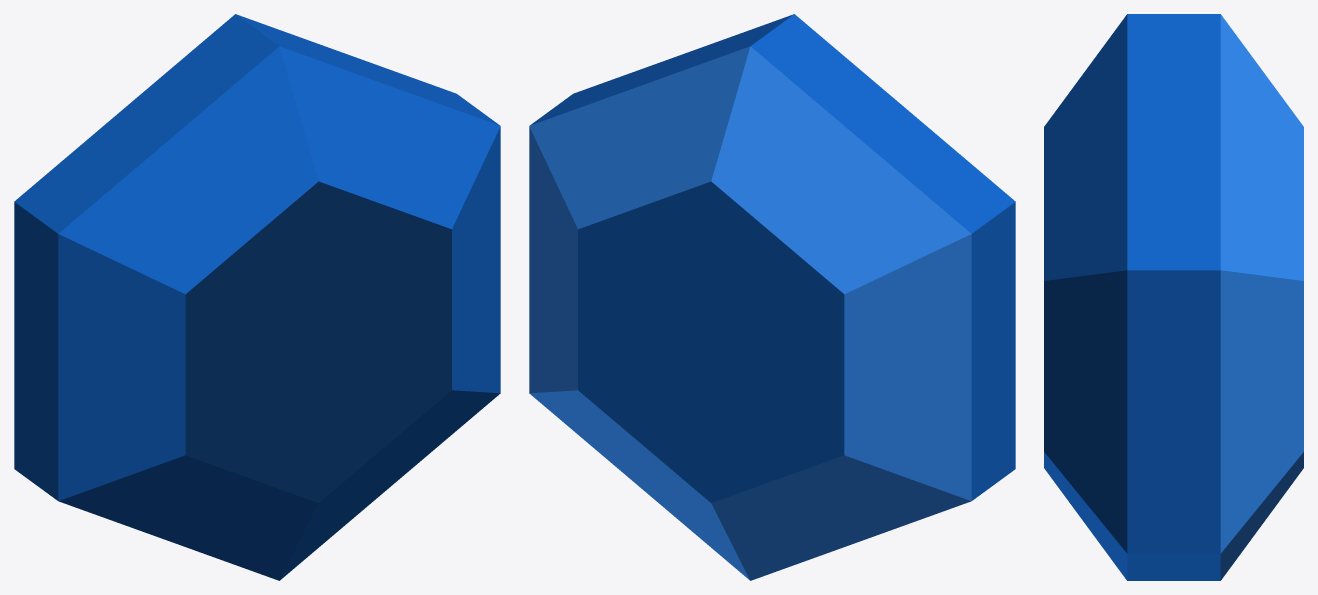
Rendered from ramp-gem-blue.glb.
The picture shows the model from 3 angles, left to right: view 1: azimuth 30°, elevation 25°; view 2: azimuth 150°, elevation 25°; view 3: azimuth 270°, elevation 25°; orthographic projection. The views are drawn at different scales.
Parts seen in each view (by area): view 1: Cylinder; view 2: Cylinder; view 3: Cylinder.
Part boxes in pixels (x1,y1,x2,y2): Cylinder: (14,14,500,580); Cylinder: (529,14,1015,580); Cylinder: (1044,14,1303,580).
Bounding box in the file's own units: 0.4033 × 0.4657 × 0.1934.
1 material, 1 textured.
